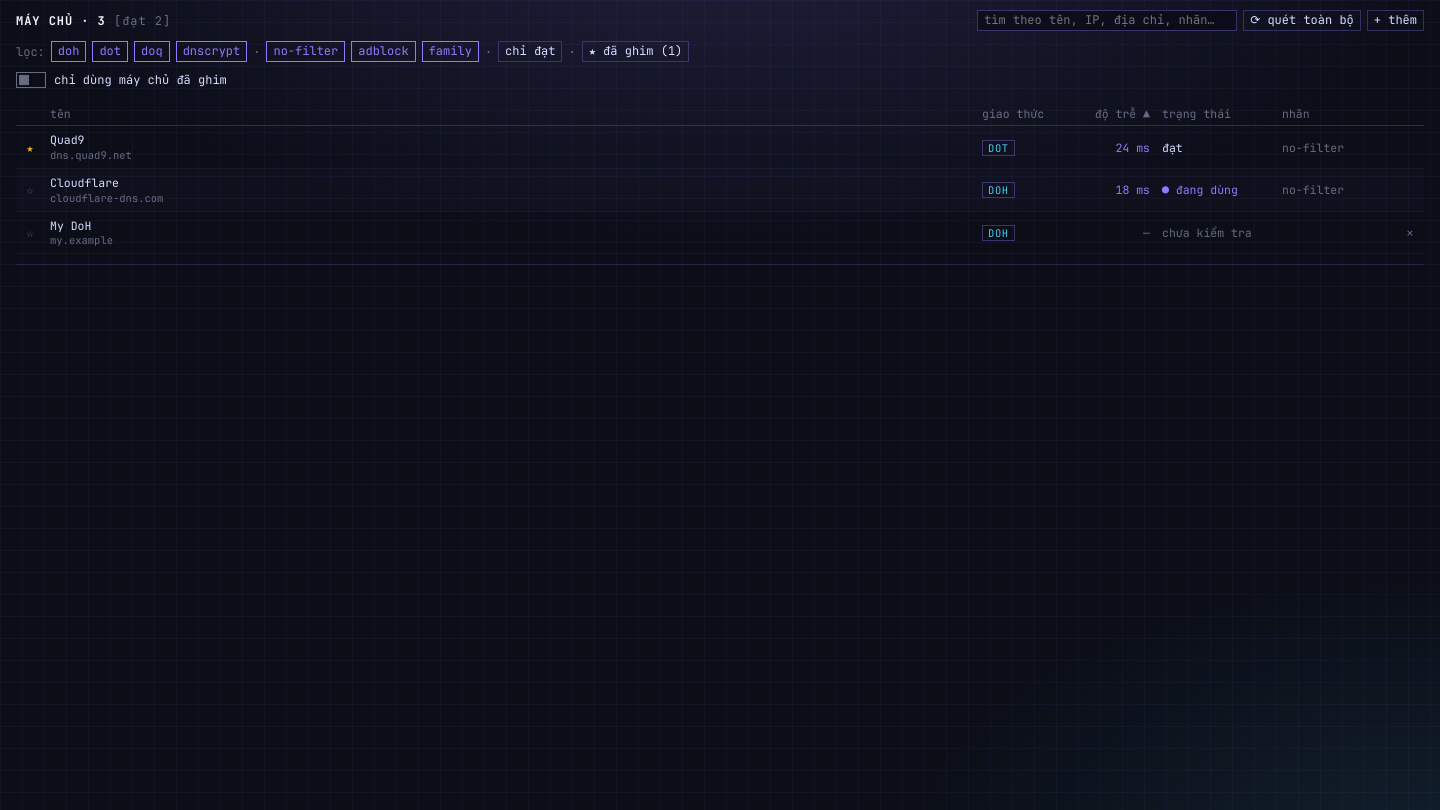
searching does not add anything to the title row
In the search field named "tìm máy chủ": (1107, 21) x1=977 y1=10 x2=1237 y2=31, type "doh"
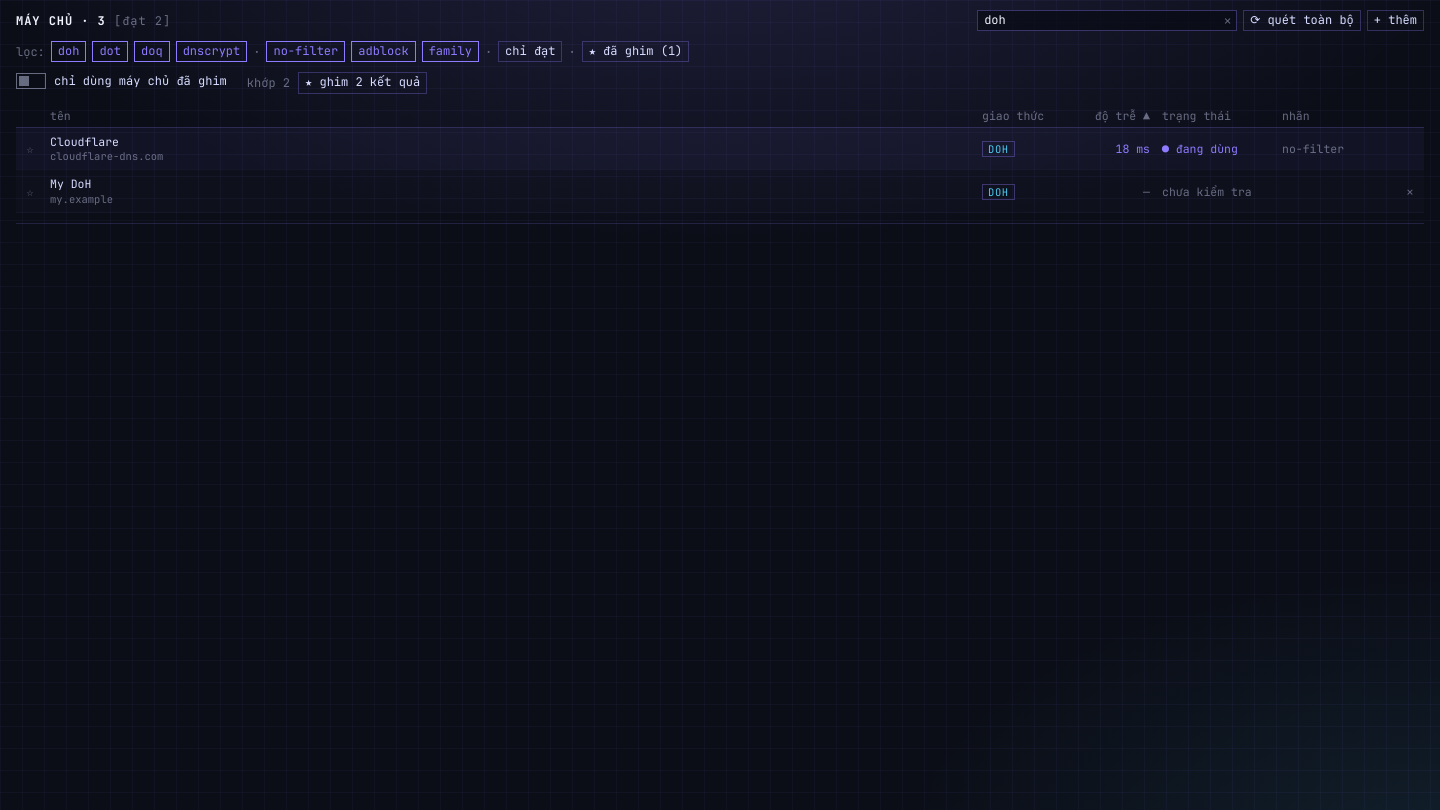
Expected: the button "★ ghim 2 kết quả" is shown, x1=298 y1=72 x2=427 y2=94
Expected: the text "khớp 2" is shown, x1=247 y1=75 x2=290 y2=91
